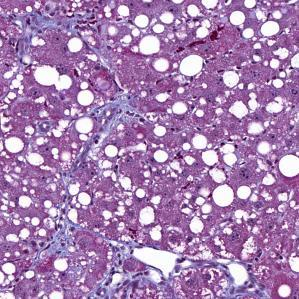fibrosis: (92, 85, 146, 146), (21, 8, 111, 36)
